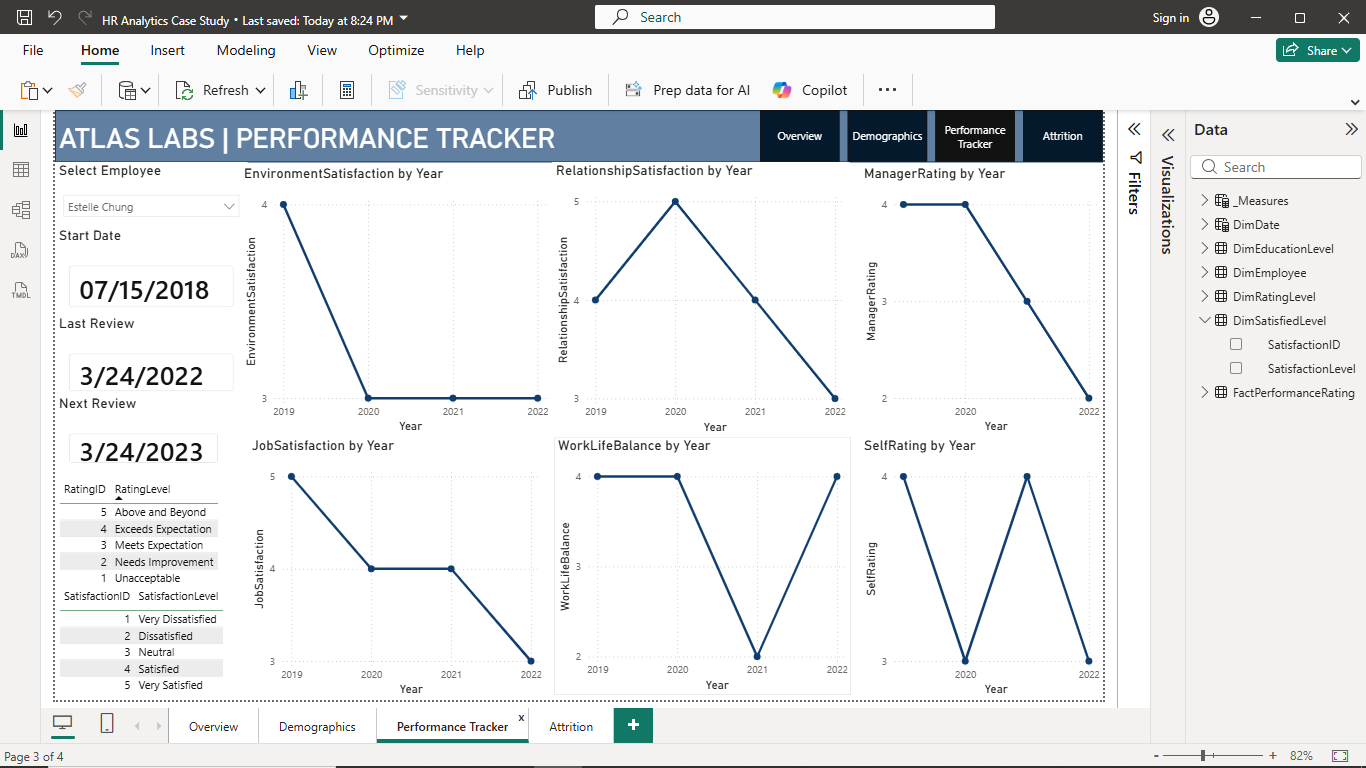

The page's visual inventory and layout, read from the dashboard file:
{"tool":"powerbi","page":{"name":"Performance Tracker","canvas":[1280,720],"ordinal":2},"visuals":[{"type":"shape","box":[0,0,1280,63.8],"z":0},{"type":"slicer","title":"Select Employee","fields":{"Values":["DimEmployee.FullName"]},"box":[0,63.3,235.2,82.3],"z":1000},{"type":"cardVisual","title":"Start Date","fields":{"Data":["Min(DimEmployee.HireDate)"]},"box":[0,143.1,235.2,115.9],"z":2000},{"type":"cardVisual","title":"Last Review","fields":{"Data":["_Measures.LastReviewDate"]},"box":[0,250.5,235.2,110.9],"z":3000},{"type":"cardVisual","title":"Next Review","fields":{"Data":["DimEmployee.NextReviewDate"]},"box":[0,348.2,216.7,100.8],"z":4000},{"type":"lineChart","fields":{"Y":["_Measures.EnvironmentSatisfaction"],"Category":["DimDate.Year"]},"box":[225.7,67.4,381.2,331.7],"z":5000},{"type":"lineChart","fields":{"Y":["_Measures.JobSatisfaction"],"Category":["DimDate.Year"]},"box":[235.4,399.1,363.4,320.7],"z":6000},{"type":"lineChart","fields":{"Y":["_Measures.WorkLifeBalance"],"Category":["DimDate.Year"]},"box":[608.3,399.1,363.4,315.2],"z":7000},{"type":"lineChart","fields":{"Y":["_Measures.RelationshipSatisfaction"],"Category":["DimDate.Year"]},"box":[607,63.3,363.4,335.8],"z":8000},{"type":"lineChart","fields":{"Y":["_Measures.SelfRating"],"Category":["DimDate.Year"]},"box":[982.7,399.1,297.3,320.7],"z":9000},{"type":"lineChart","fields":{"Category":["DimDate.Year"],"Y":["_Measures.ManagerRating"]},"box":[982.7,67.4,297.3,331.7],"z":10000},{"type":"tableEx","fields":{"Values":["DimSatisfiedLevel.SatisfactionID","DimSatisfiedLevel.SatisfactionLevel"]},"box":[0,578.1,235.4,141.8],"z":11000},{"type":"tableEx","fields":{"Values":["DimRatingLevel.RatingID","DimRatingLevel.RatingLevel"]},"box":[0,447.3,216.1,140.4],"z":12000},{"type":"textbox","box":[0,9.6,620.7,50.9],"z":13000},{"type":"pageNavigator","box":[859.9,0,419.9,63.8],"z":14000}]}

Visuals, with their boxes on the page's 1280x720 design canvas (x1, y1, x2, y2). These are canvas units, not pixel positions in the 1366x768 screenshot, which may show the page scaled, cropped or inside an application window:
shape: [x1=0, y1=0, x2=1280, y2=64]
"Select Employee" slicer: [x1=0, y1=63, x2=235, y2=146]
"Start Date" cardVisual: [x1=0, y1=143, x2=235, y2=259]
"Last Review" cardVisual: [x1=0, y1=250, x2=235, y2=361]
"Next Review" cardVisual: [x1=0, y1=348, x2=217, y2=449]
lineChart - _Measures.EnvironmentSatisfaction x DimDate.Year: [x1=226, y1=67, x2=607, y2=399]
lineChart - _Measures.JobSatisfaction x DimDate.Year: [x1=235, y1=399, x2=599, y2=720]
lineChart - _Measures.WorkLifeBalance x DimDate.Year: [x1=608, y1=399, x2=972, y2=714]
lineChart - _Measures.RelationshipSatisfaction x DimDate.Year: [x1=607, y1=63, x2=970, y2=399]
lineChart - _Measures.SelfRating x DimDate.Year: [x1=983, y1=399, x2=1280, y2=720]
lineChart - DimDate.Year x _Measures.ManagerRating: [x1=983, y1=67, x2=1280, y2=399]
tableEx - DimSatisfiedLevel.SatisfactionID x DimSatisfiedLevel.SatisfactionLevel: [x1=0, y1=578, x2=235, y2=720]
tableEx - DimRatingLevel.RatingID x DimRatingLevel.RatingLevel: [x1=0, y1=447, x2=216, y2=588]
textbox: [x1=0, y1=10, x2=621, y2=60]
pageNavigator: [x1=860, y1=0, x2=1280, y2=64]
